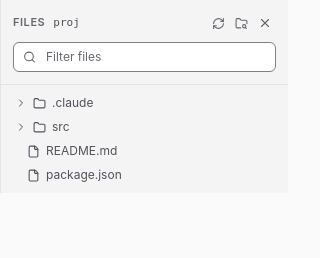
Scenario: FilesPanel — tree › reuses the cached listing when a folder is expanded again
What coordinates should you click on to do the following:
click the button "src"
I would click on:
 (21, 127)
Its box is x1=7 y1=115 x2=282 y2=139.
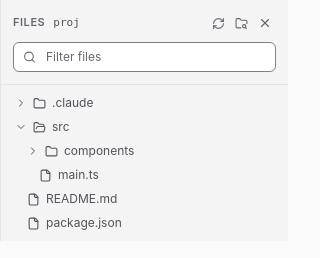
What coordinates should you click on to do the following:
click the button "src"
I would click on:
 (21, 127)
Its box is x1=7 y1=115 x2=282 y2=139.
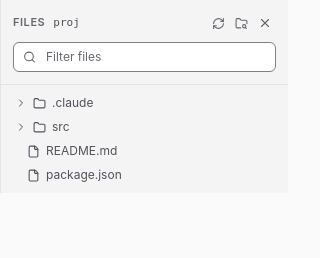
What coordinates should you click on to do the following:
click the button "src"
I would click on:
 (21, 127)
Its box is x1=7 y1=115 x2=282 y2=139.
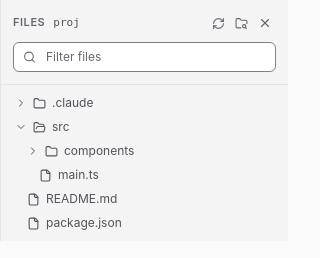
Result: the list item "main.ts" is shown at x1=7 y1=163 x2=282 y2=187
